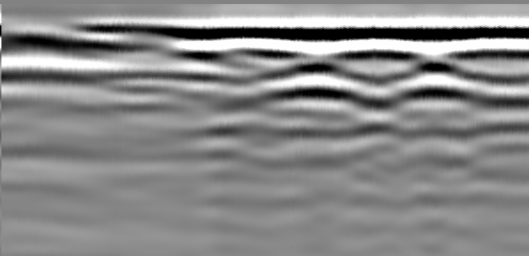pipe: (2, 19, 94, 51)
steel: (327, 48, 428, 67)
